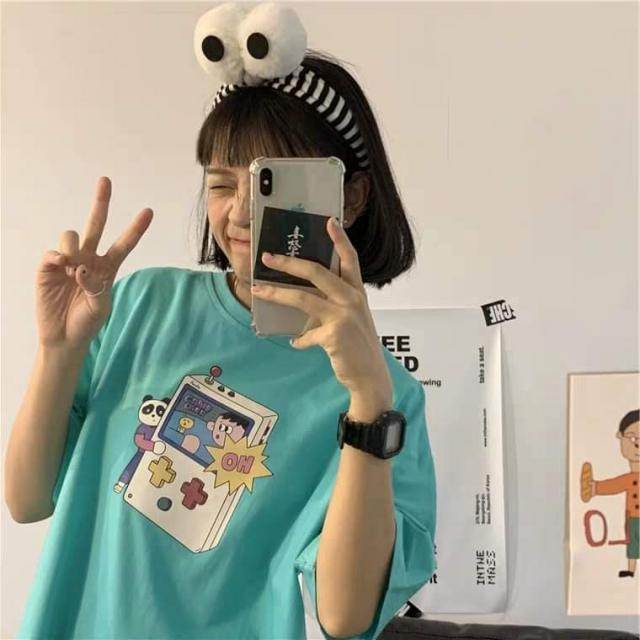short sleeve shirt: (7, 258, 442, 640)
